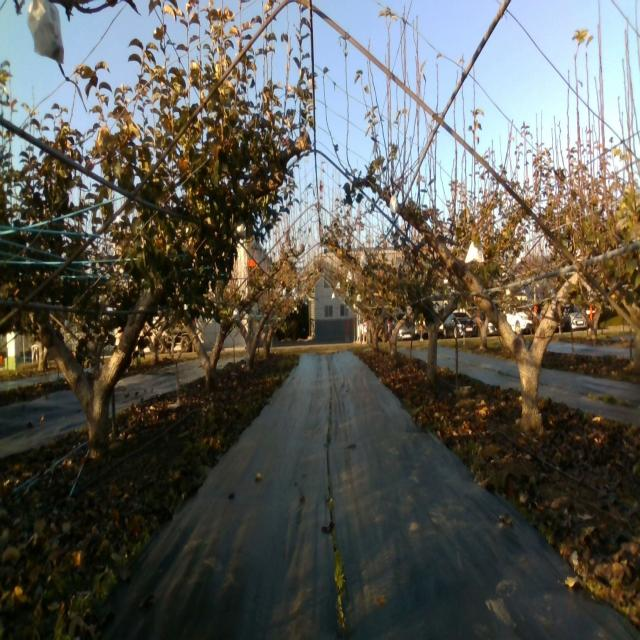pearbags: (26, 0, 64, 66), (464, 240, 484, 265), (233, 216, 247, 238), (389, 192, 399, 218)
